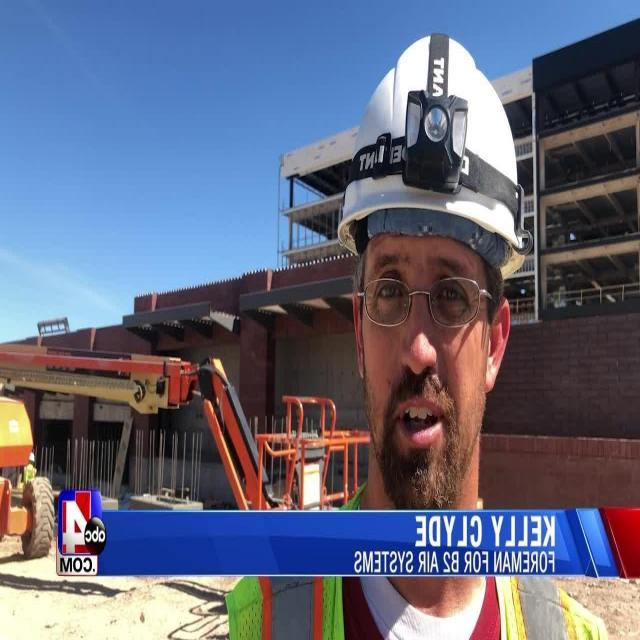reflective_jacket: (214, 568, 604, 639)
safety_helmet: (332, 27, 527, 257)
